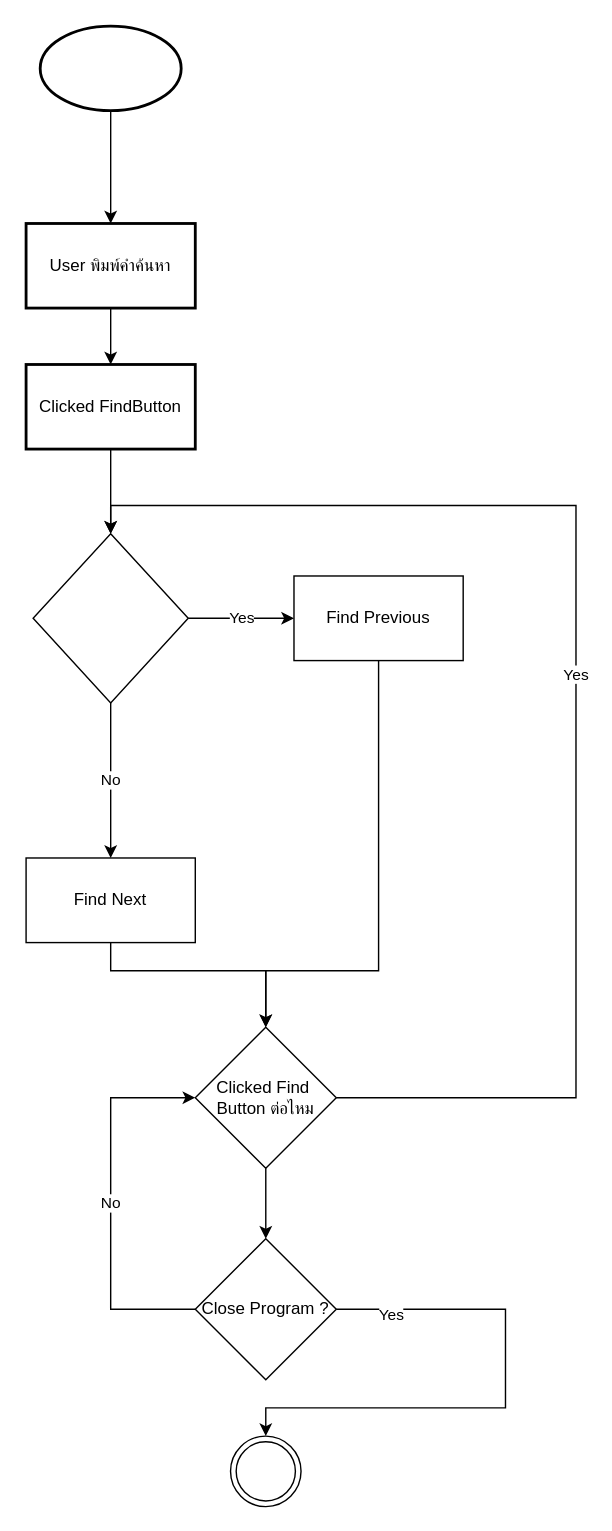
The diagram is 612 pixels wide and 1531 high, and some of its shapes have lost their labels. Here are the shapes that lost their labels. From the top down, the centre of each, then its label:
At (110,67): "Start".
At (110,617): "BackWard CheckBox right ?".
At (265,1471): "End".
